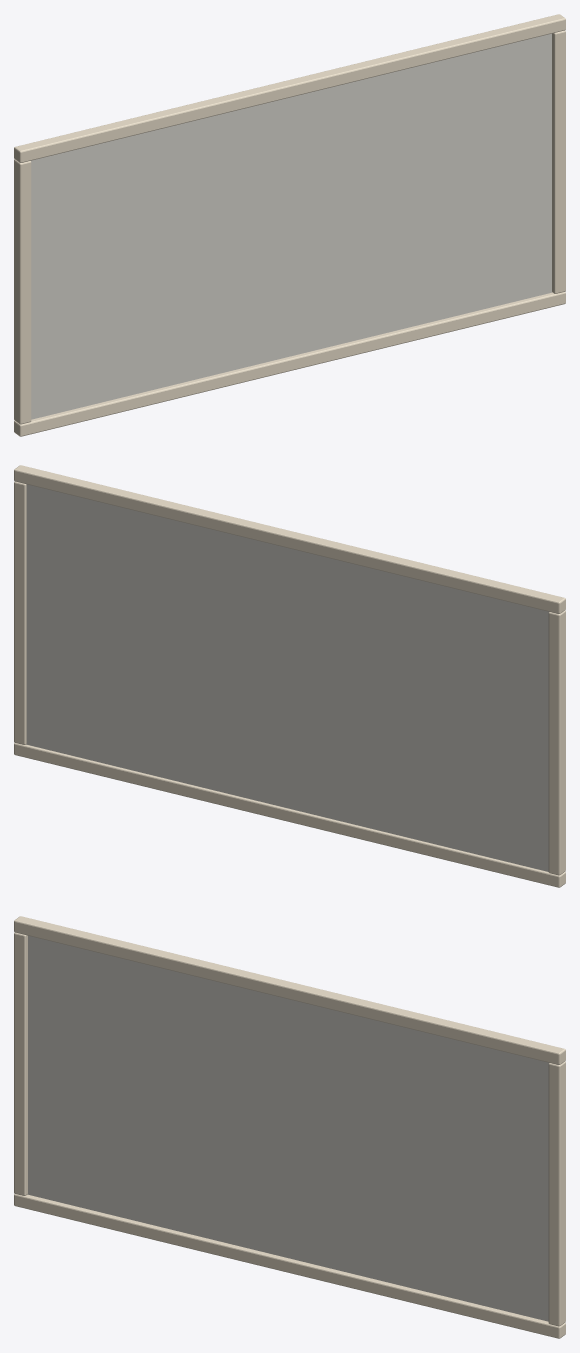
Rendered from sg_art_large.glb.
The picture shows the model from 3 angles, top to bottom: view 1: azimuth 30°, elevation 25°; view 2: azimuth 150°, elevation 25°; view 3: azimuth 330°, elevation 25°; orthographic projection.
Visible parts, largest first — view 1: canvas, frame; view 2: canvas, frame; view 3: canvas, frame.
Boxes of the visible parts, x1,y1,x2,y2 form: canvas: [31, 33, 552, 419]; frame: [14, 14, 565, 436]; canvas: [26, 484, 548, 871]; frame: [14, 465, 565, 887]; canvas: [27, 935, 548, 1321]; frame: [14, 916, 565, 1338].
Size of the model in its own units: 1.4 by 0.7 by 0.03.
